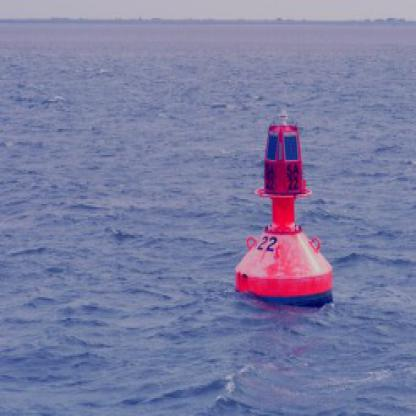buoy: (226, 96, 340, 316)
